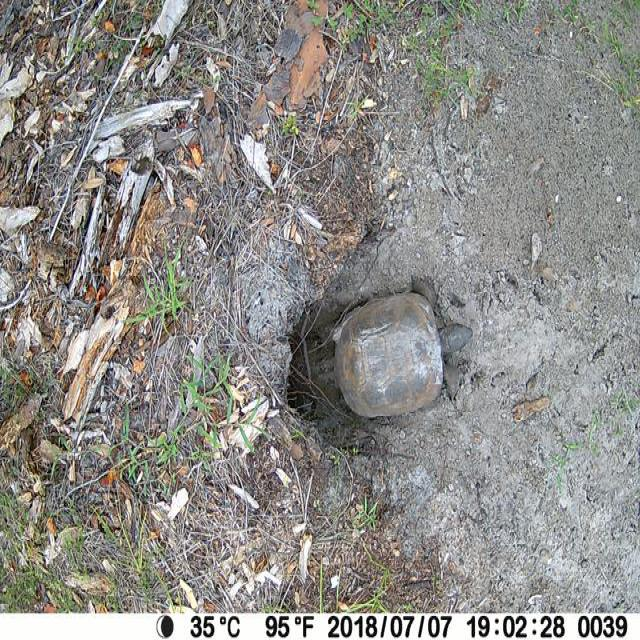tortoise: (328, 276, 473, 417)
